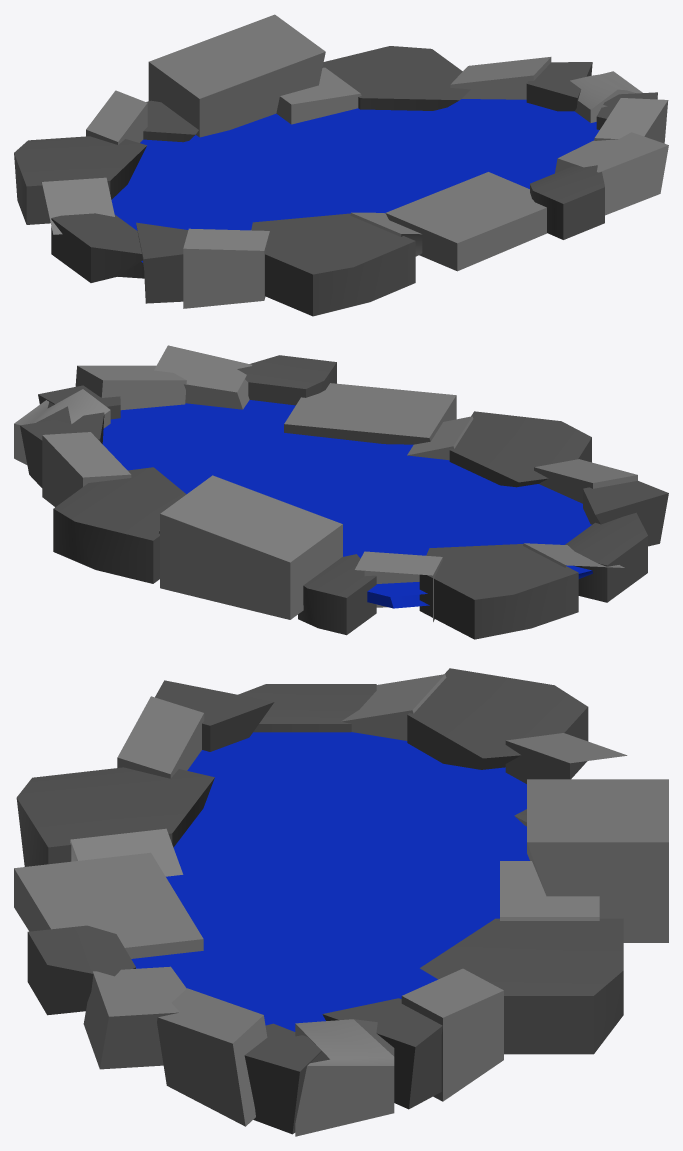
Rendered from river.fbx.
3 views of the same model, one above another, from view 1: azimuth 30°, elevation 25°; view 2: azimuth 150°, elevation 25°; view 3: azimuth 270°, elevation 25° (orthographic). The views are drawn at different scales.
Parts seen in each view (by area): view 1: obj1, obj7, obj3, obj8, obj2, obj9, obj14, obj11, obj4, obj13, obj5, obj6 (+2 smaller); view 2: obj1, obj7, obj3, obj8, obj2, obj9, obj10, obj4, obj14, obj13, obj11, obj6 (+2 smaller); view 3: obj1, obj7, obj3, obj8, obj2, obj13, obj6, obj14, obj4, obj11, obj5, obj12 (+1 smaller).
Part boxes in pixels (x1,y1,x2,y2): obj1: (111, 99, 599, 262); obj7: (136, 172, 546, 316); obj3: (148, 14, 361, 137); obj8: (14, 90, 147, 234); obj2: (322, 46, 470, 110); obj9: (51, 213, 144, 282); obj14: (555, 132, 668, 215); obj11: (530, 165, 604, 239); obj4: (450, 57, 551, 99); obj13: (594, 98, 668, 143); obj5: (526, 62, 592, 111); obj6: (570, 71, 642, 122); obj1: (102, 400, 592, 608); obj7: (284, 383, 668, 546); obj3: (159, 475, 342, 619); obj8: (355, 543, 624, 639); obj2: (53, 467, 186, 583); obj9: (565, 512, 647, 602); obj10: (298, 554, 376, 635); obj4: (42, 432, 131, 507); obj14: (154, 345, 252, 409); obj13: (75, 365, 186, 410); obj11: (237, 355, 336, 405); obj6: (14, 389, 110, 464); obj1: (131, 732, 529, 1031); obj7: (14, 680, 274, 958); obj3: (500, 779, 668, 942); obj8: (341, 668, 627, 783); obj2: (420, 918, 623, 1054); obj13: (157, 988, 267, 1126); obj6: (295, 1019, 394, 1136); obj14: (83, 966, 186, 1069); obj4: (401, 968, 503, 1101); obj11: (27, 925, 135, 1015); obj5: (322, 998, 442, 1109); obj12: (244, 1023, 321, 1134).
Bounding box in the file's own units: 257 × 38.64 × 178.
